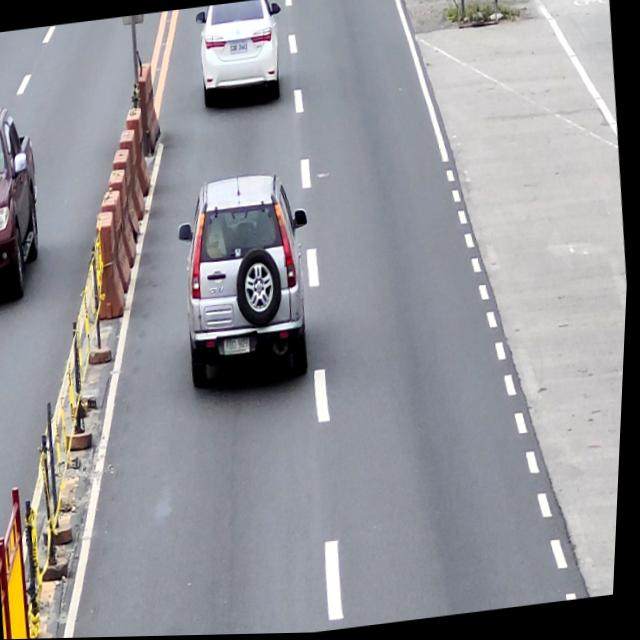Car: (170, 168, 326, 396), (190, 0, 291, 114)
License-Plate: (225, 336, 255, 357), (228, 40, 249, 55)
